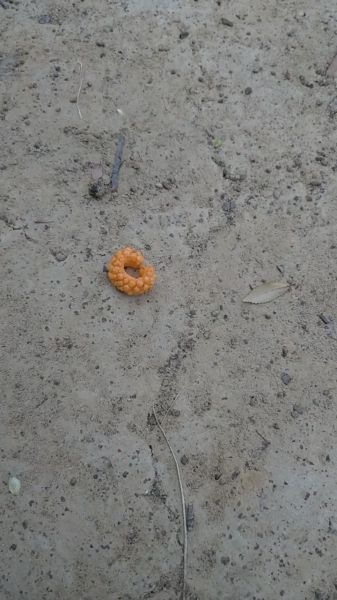eggs: (104, 245, 158, 303)
